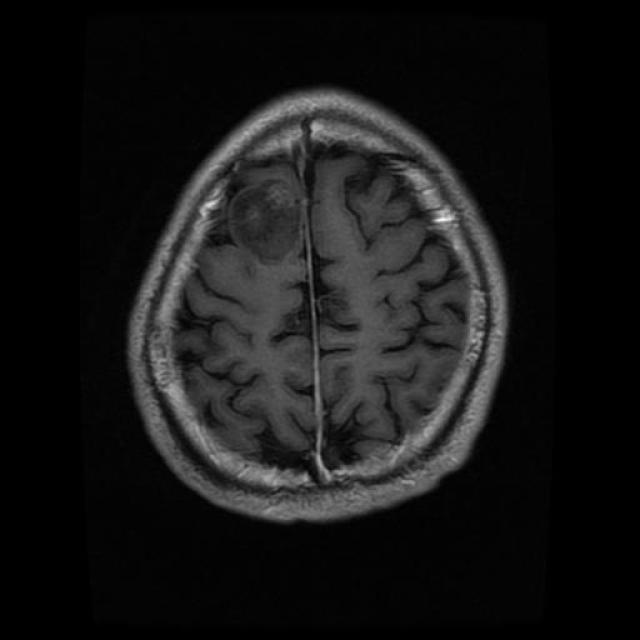glioma: (224, 180, 306, 266)
